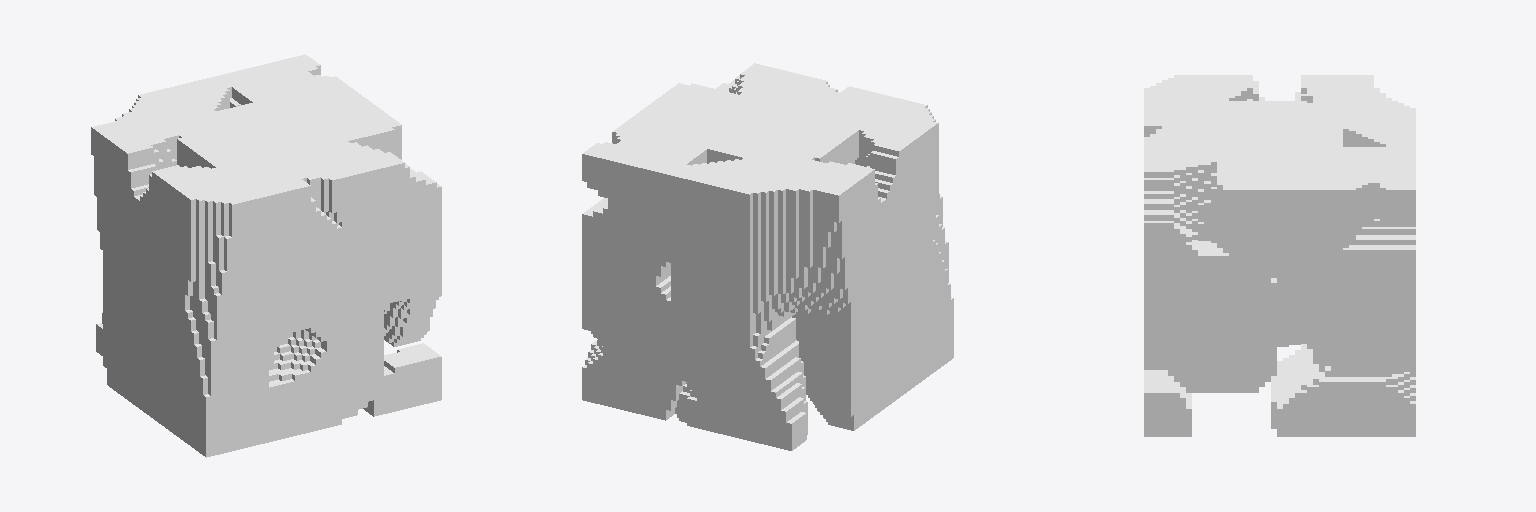
The model's file is wavey.obj.
3 views of the same model, side by side, from view 1: azimuth 30°, elevation 25°; view 2: azimuth 150°, elevation 25°; view 3: azimuth 270°, elevation 25° (orthographic).
Bounding box in the file's own units: 45 × 45 × 45.